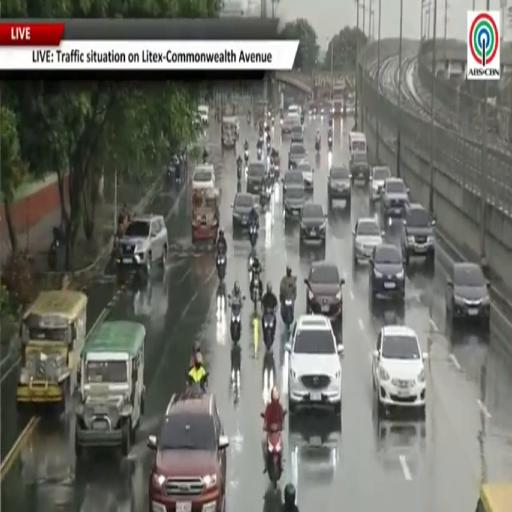car: (148, 392, 229, 511), (286, 315, 342, 413), (372, 326, 427, 417), (375, 415, 426, 477), (118, 215, 168, 275), (446, 263, 490, 328), (304, 262, 344, 324), (401, 203, 435, 265), (370, 244, 405, 301), (353, 218, 382, 263), (381, 178, 409, 222), (300, 203, 326, 246), (233, 192, 256, 232), (328, 167, 351, 206), (283, 182, 305, 218), (369, 166, 391, 201), (282, 170, 303, 204), (350, 153, 369, 185), (246, 163, 265, 195), (192, 164, 215, 188), (297, 159, 313, 190), (288, 143, 307, 168), (282, 114, 300, 136), (198, 105, 209, 125), (291, 124, 303, 142), (318, 101, 328, 116), (288, 105, 301, 116), (309, 102, 317, 115)
jeepney: (75, 322, 145, 457), (17, 291, 87, 408), (192, 188, 220, 243), (476, 484, 511, 511), (222, 117, 238, 148), (254, 101, 267, 125)
motorcycle: (266, 425, 282, 487), (228, 296, 241, 343), (262, 310, 275, 350), (186, 373, 208, 393), (48, 239, 60, 271), (281, 299, 294, 328), (250, 272, 260, 308), (216, 252, 226, 280), (248, 248, 255, 282), (249, 223, 257, 247), (260, 186, 267, 207), (266, 140, 272, 154), (237, 163, 241, 181), (315, 139, 320, 152), (257, 148, 262, 161), (203, 153, 208, 165), (328, 137, 332, 151), (245, 150, 248, 164), (247, 115, 251, 125), (300, 115, 304, 124), (271, 117, 275, 126)
